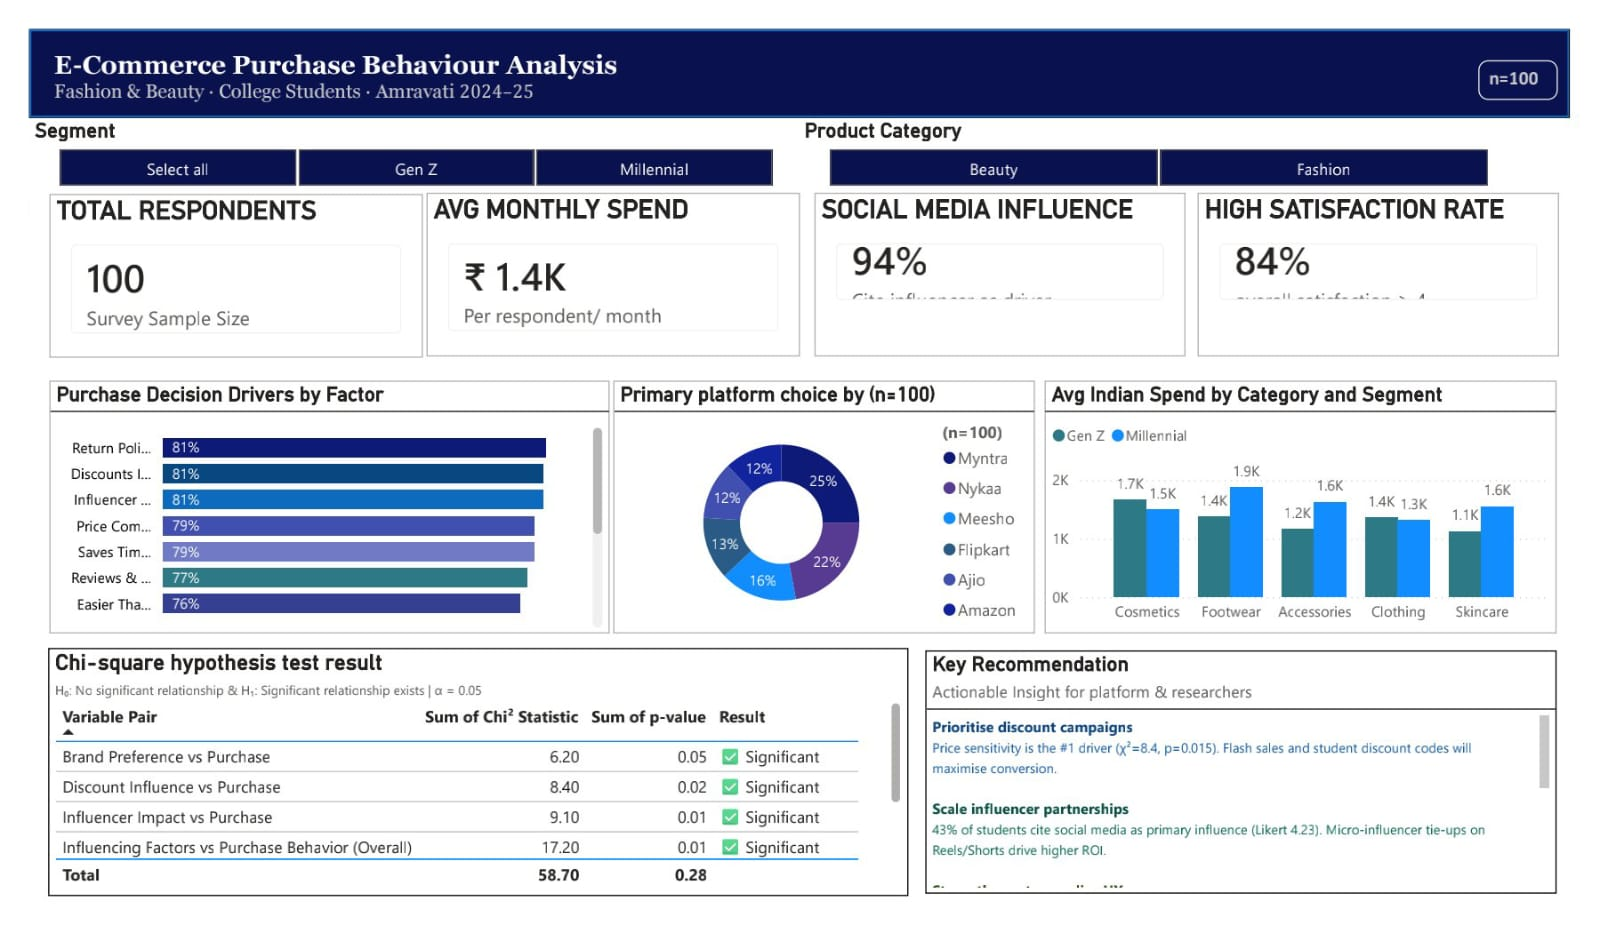

The dashboard page shown, as its layout file describes it:
{"tool":"powerbi","page":{"name":"Page 1","canvas":[1280,720],"ordinal":0},"visuals":[{"type":"shape","box":[0,0,1279.4,73.5],"z":0},{"type":"textbox","box":[16.2,11.8,927.9,61.8],"z":1000},{"type":"shape","box":[1202.9,26.5,66.2,32.4],"z":2000},{"type":"textbox","box":[1207.4,26.5,61.8,36.8],"z":3000},{"type":"slicer","title":"Segment","fields":{"Values":["Survey_Raw_Data.Segment"]},"box":[0,74.1,640.7,63],"z":4000},{"type":"slicer","title":"Product Category","fields":{"Values":["Survey_Raw_Data.category groupCustom"]},"box":[638.9,74.1,596.3,63],"z":5000},{"type":"cardVisual","title":"TOTAL RESPONDENTS","fields":{"Data":["Survey_Raw_Data.Total respondentsTotal Respondents"]},"box":[16.7,136.7,310,136.7],"z":6000},{"type":"cardVisual","title":"AVG MONTHLY SPEND","fields":{"Data":["Survey_Raw_Data.Average monthly spendAvg Monthly Spend"]},"box":[330,136,310,136],"z":7000},{"type":"cardVisual","title":"HIGH SATISFACTION RATE","fields":{"Data":["Survey_Raw_Data.High satisfaction rate (overall satisfaction ≥ 4)High Satisfaction %"]},"box":[970,136,300,136],"z":8000},{"type":"cardVisual","title":"SOCIAL MEDIA INFLUENCE","fields":{"Data":["Survey_Raw_Data.Social media influence % (influencer impact score ≥ 4)Social Media Influence %"]},"box":[652,136,308,136],"z":9000},{"type":"clusteredBarChart","fields":{"Category":["Likert_Scores.Factor"],"Y":["Likert_Scores.Driver Influence %"]},"box":[16.7,291.7,465,210],"z":10000},{"type":"donutChart","fields":{"Category":["Survey_Raw_Data.Platform_1st_Choice"],"Y":["CountNonNull(Survey_Raw_Data.Platform_1st_Choice)"]},"box":[485,291.7,350,210],"z":11000},{"type":"clusteredColumnChart","fields":{"Category":["Survey_Raw_Data.Product_Category_1st"],"Y":["Survey_Raw_Data.Average monthly spendAvg Monthly Spend"],"Series":["Survey_Raw_Data.Segment"]},"box":[843.3,291.7,425,210],"z":12000},{"type":"tableEx","title":"Chi-square hypothesis test result","fields":{"Values":["Chi_Square_Results.Variable Pair","Sum(Chi_Square_Results.Chi² Statistic)","Sum(Chi_Square_Results.p-value)","Chi_Square_Results.Result"]},"box":[16,514,714,206],"z":13000},{"type":"textbox","title":"Key Recommendation","box":[744,516,524,202],"z":14000}]}

Visuals, with their boxes in screenshot pixels (x1, y1, x2, y2), scaled from the page's 1280x720 canvas onto the 1600x925 screenshot:
shape: 0, 0, 1599, 94
textbox: 20, 15, 1180, 95
shape: 1504, 34, 1586, 76
textbox: 1509, 34, 1586, 81
"Segment" slicer: 0, 95, 801, 176
"Product Category" slicer: 799, 95, 1544, 176
"TOTAL RESPONDENTS" cardVisual: 21, 176, 408, 351
"AVG MONTHLY SPEND" cardVisual: 412, 175, 800, 349
"HIGH SATISFACTION RATE" cardVisual: 1212, 175, 1588, 349
"SOCIAL MEDIA INFLUENCE" cardVisual: 815, 175, 1200, 349
clusteredBarChart - Likert_Scores.Factor x Likert_Scores.Driver Influence %: 21, 375, 602, 645
donutChart - Survey_Raw_Data.Platform_1st_Choice x CountNonNull(Survey_Raw_Data.Platform_1st_Choice): 606, 375, 1044, 645
clusteredColumnChart - Survey_Raw_Data.Product_Category_1st x Survey_Raw_Data.Average monthly spendAvg Monthly Spend: 1054, 375, 1585, 645
"Chi-square hypothesis test result" tableEx: 20, 660, 912, 924
"Key Recommendation" textbox: 930, 663, 1585, 922
